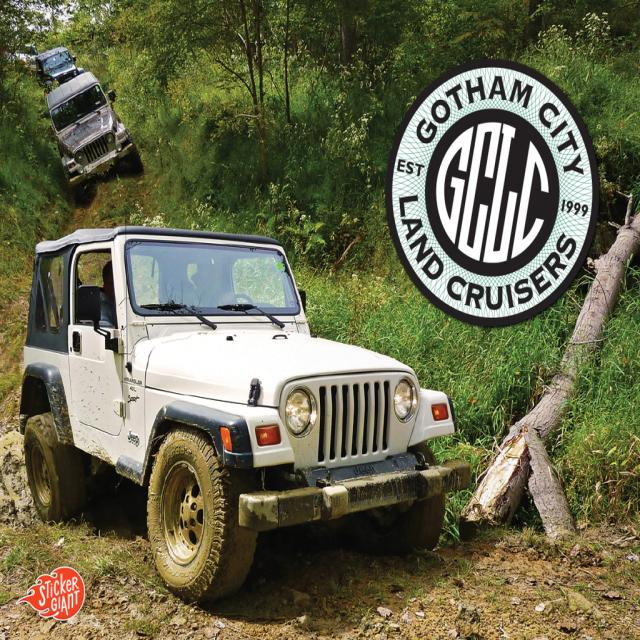car: (24, 212, 455, 601), (40, 65, 146, 203)
